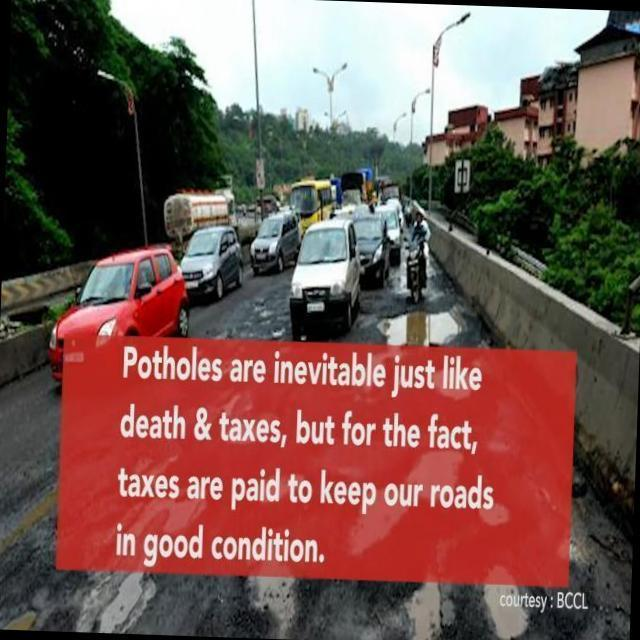Pothole: (346, 454, 462, 556), (244, 523, 307, 637), (0, 474, 84, 555), (84, 557, 157, 633), (121, 489, 204, 550), (482, 561, 528, 632), (380, 309, 467, 343), (405, 565, 443, 640), (5, 607, 44, 628), (265, 324, 289, 349)
